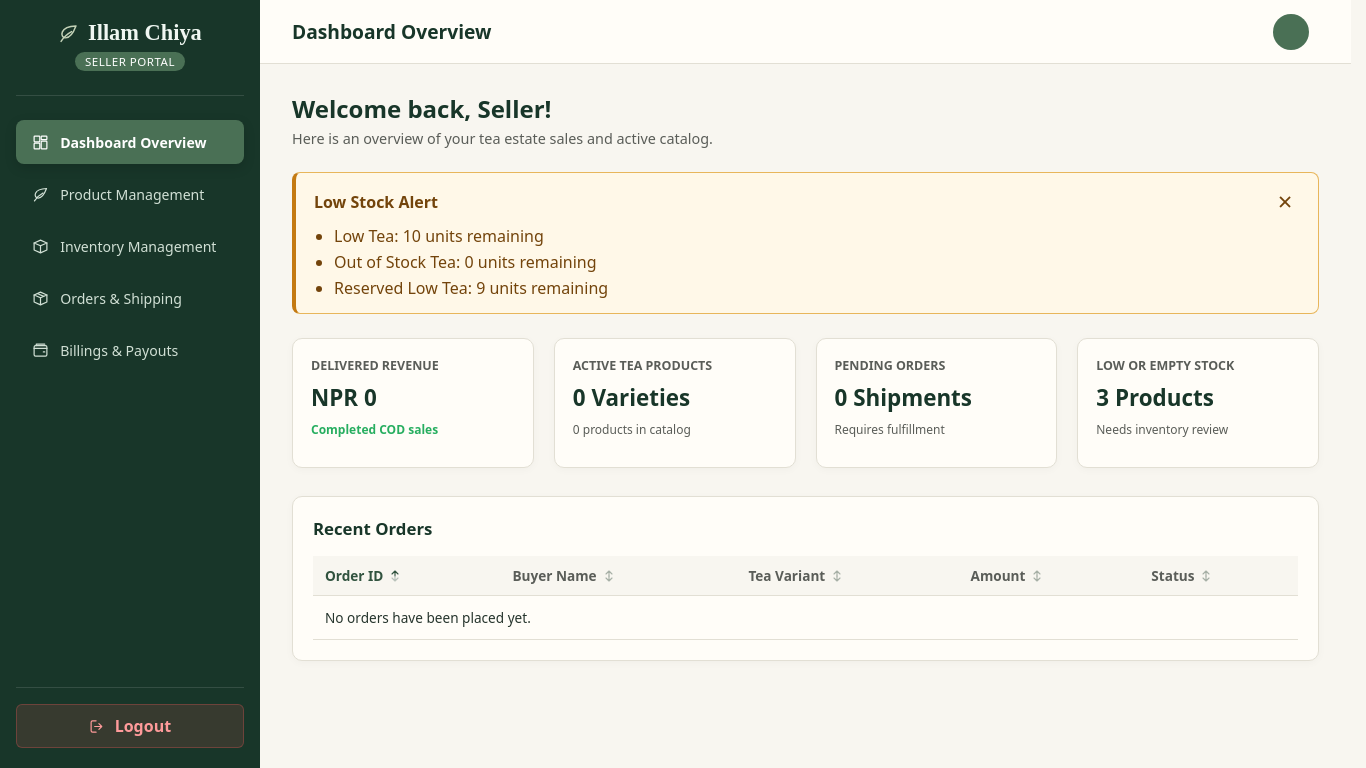
it: shows a seller dashboard alert for products with 10 or fewer units only
The image size is (1366, 768).
Expected: the message shows "Low Stock Alert", [314,191,438,213]
Expected: the message shows "Low Tea: 10 units remaining", [292,172,1319,314]
Click the button named "Dismiss low stock alert": (1285, 202) [1270,187,1300,217]
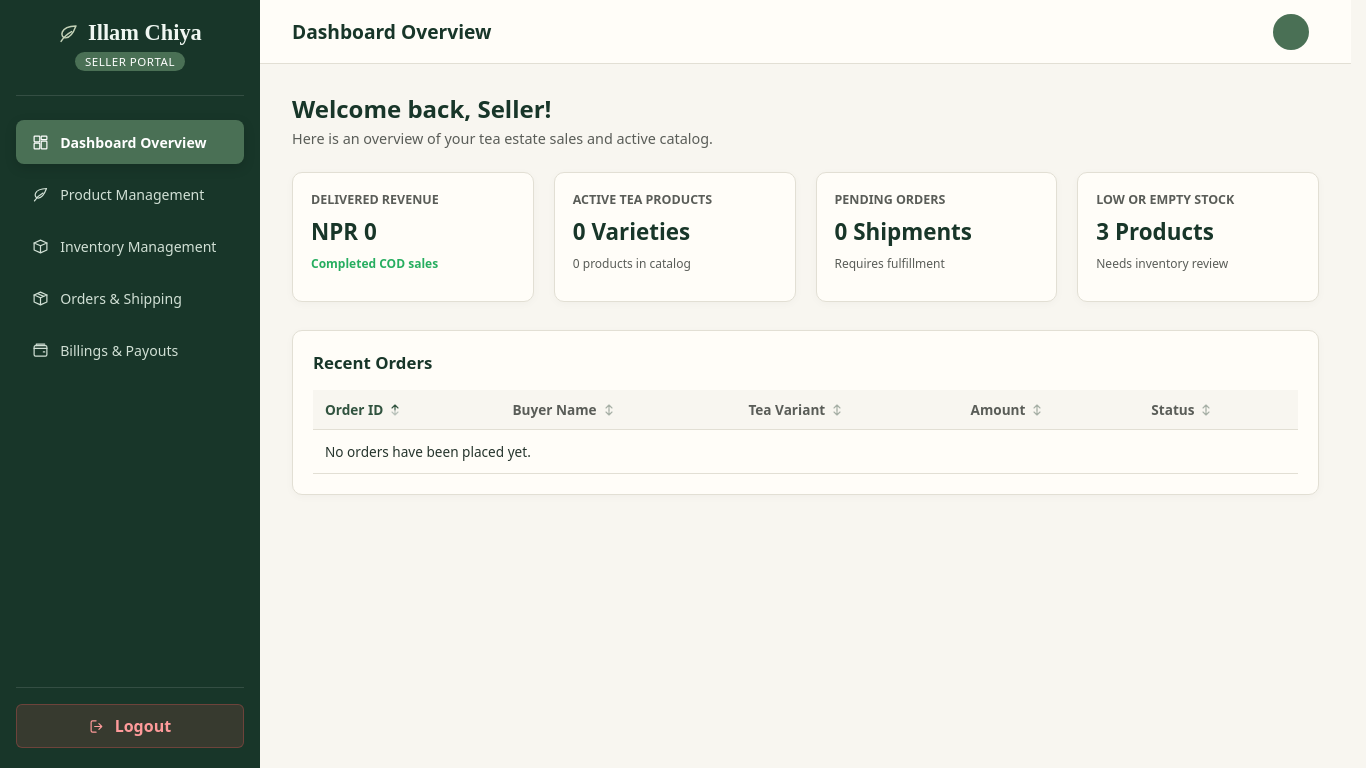
Now the message is gone
